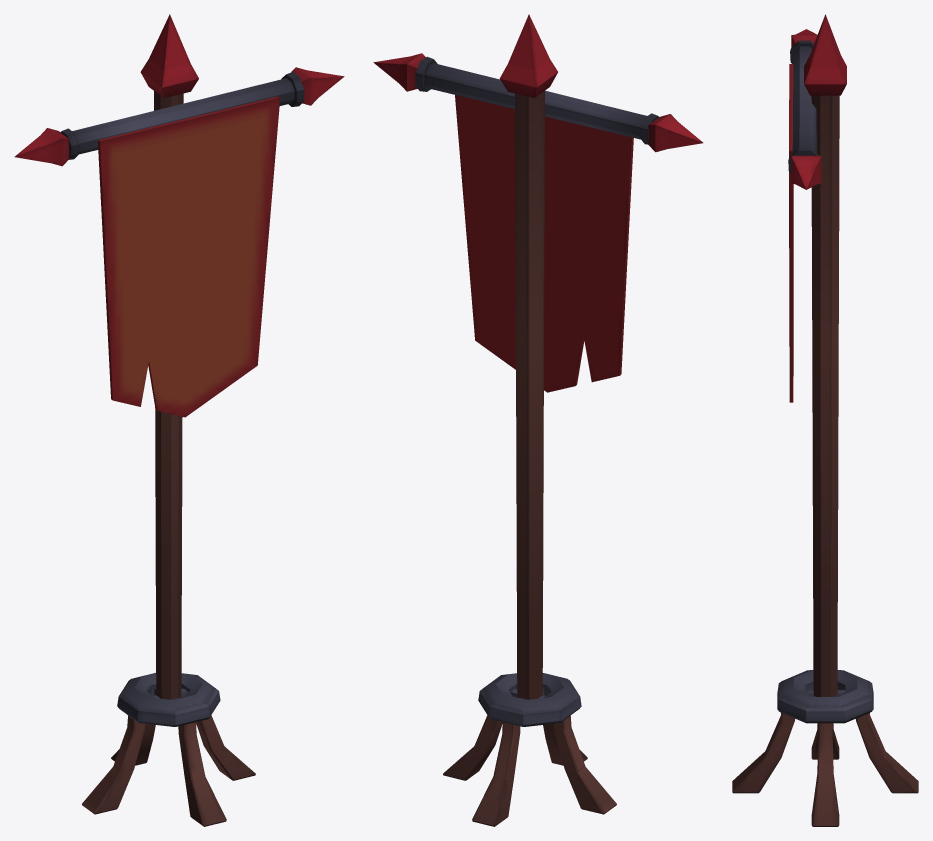
File: Bandeira2.fbx
3 renders of one model, left to right at view 1: azimuth 30°, elevation 25°; view 2: azimuth 150°, elevation 25°; view 3: azimuth 270°, elevation 25°, orthographic.
Visible parts, largest first — view 1: Bandeira 2.001; view 2: Bandeira 2.001; view 3: Bandeira 2.001.
Boxes of the visible parts, x1,y1,x2,y2 form: Bandeira 2.001: (14, 14, 344, 826); Bandeira 2.001: (373, 14, 703, 826); Bandeira 2.001: (732, 14, 918, 826).
Bounding box in the file's own units: 81.48 × 183 × 39.85.
